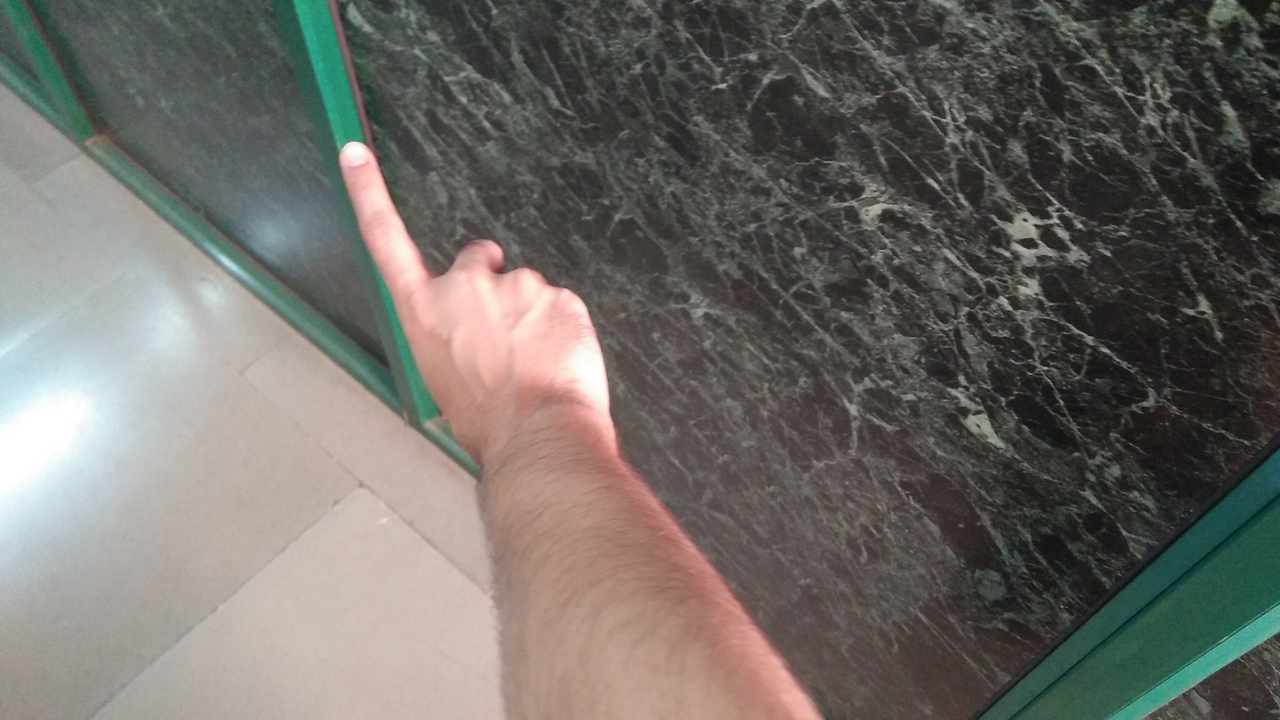fingertip: (326, 132, 376, 182)
